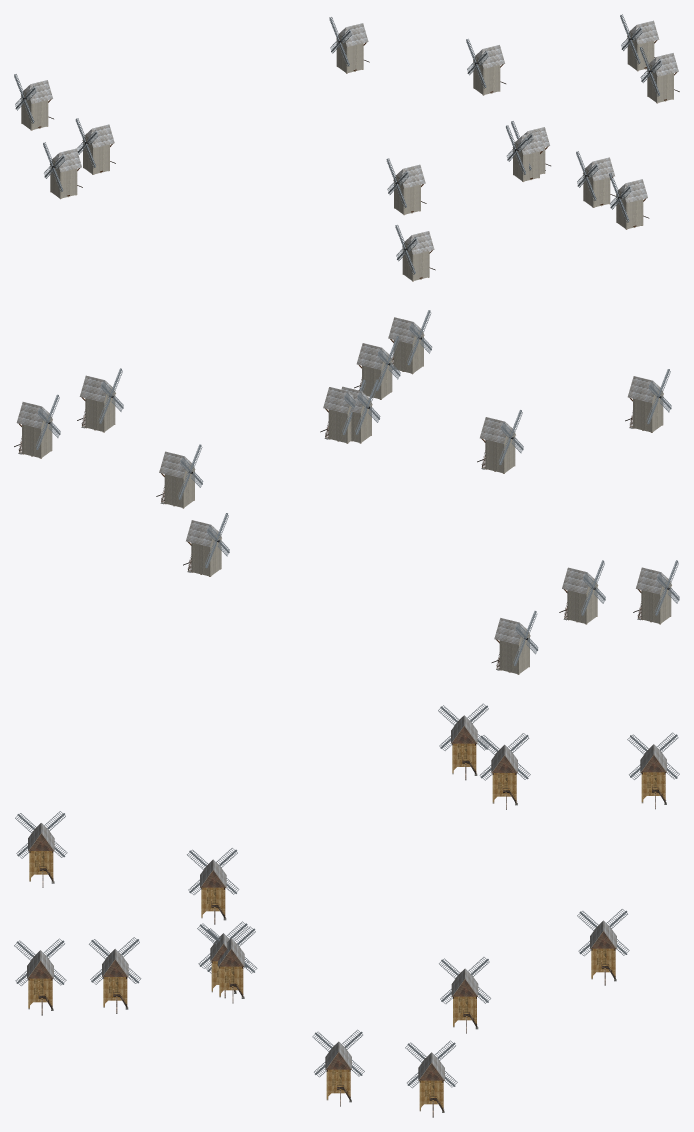
The model's file is WitkowoWindmillsGLTFBGD.gltf.
The picture shows the model from 3 angles, top to bottom: view 1: azimuth 30°, elevation 25°; view 2: azimuth 150°, elevation 25°; view 3: azimuth 270°, elevation 25°; orthographic projection. The views are drawn at different scales.
Parts seen in each view (by area): view 1: windmill.003, windmill.005, windmill.010, windmill.004, windmill.012, windmill.001, windmill.009, windmill.011, windmill.002, windmill.007, windmill, windmill.006 (+1 smaller); view 2: windmill.002, windmill.003, windmill.007, windmill.005, windmill.006, windmill.011, windmill.004, windmill.012, windmill.001, windmill.010, windmill.009, windmill.008 (+1 smaller); view 3: windmill.011, windmill.006, windmill.012, windmill.004, windmill.010, windmill.009, windmill.007, windmill.002, windmill.003, windmill.001, windmill.005, windmill.008 (+1 smaller).
Boxes of the visible parts, x1=… form: windmill.003: x1=43, y1=142, x2=82, y2=199; windmill.005: x1=466, y1=39, x2=505, y2=95; windmill.010: x1=609, y1=173, x2=649, y2=229; windmill.004: x1=329, y1=17, x2=369, y2=73; windmill.012: x1=395, y1=225, x2=435, y2=281; windmill.001: x1=14, y1=74, x2=53, y2=130; windmill.009: x1=576, y1=151, x2=615, y2=207; windmill.011: x1=386, y1=158, x2=426, y2=215; windmill.002: x1=75, y1=118, x2=115, y2=174; windmill.007: x1=640, y1=46, x2=679, y2=103; windmill: x1=506, y1=125, x2=545, y2=181; windmill.006: x1=620, y1=14, x2=659, y2=71; windmill.002: x1=559, y1=560, x2=605, y2=624; windmill.003: x1=633, y1=560, x2=679, y2=624; windmill.007: x1=77, y1=368, x2=123, y2=432; windmill.005: x1=156, y1=444, x2=203, y2=508; windmill.006: x1=14, y1=394, x2=60, y2=458; windmill.011: x1=477, y1=410, x2=523, y2=473; windmill.004: x1=183, y1=513, x2=229, y2=576; windmill.012: x1=625, y1=369, x2=671, y2=432; windmill.001: x1=491, y1=611, x2=538, y2=674; windmill.010: x1=388, y1=310, x2=432, y2=374; windmill.009: x1=354, y1=336, x2=400, y2=399; windmill.008: x1=320, y1=379, x2=366, y2=443; windmill.011: x1=187, y1=848, x2=239, y2=924; windmill.006: x1=405, y1=1040, x2=457, y2=1117; windmill.012: x1=15, y1=811, x2=67, y2=887; windmill.004: x1=577, y1=909, x2=629, y2=985; windmill.010: x1=14, y1=938, x2=66, y2=1015; windmill.009: x1=89, y1=937, x2=141, y2=1013; windmill.007: x1=312, y1=1029, x2=364, y2=1106; windmill.002: x1=478, y1=733, x2=530, y2=809; windmill.003: x1=438, y1=703, x2=489, y2=780; windmill.001: x1=627, y1=732, x2=679, y2=809; windmill.005: x1=439, y1=957, x2=490, y2=1033; windmill.008: x1=205, y1=926, x2=257, y2=1003.
Bounding box in the file's own units: 4.04 × 0.3141 × 3.2.
182 materials, 169 textured.
